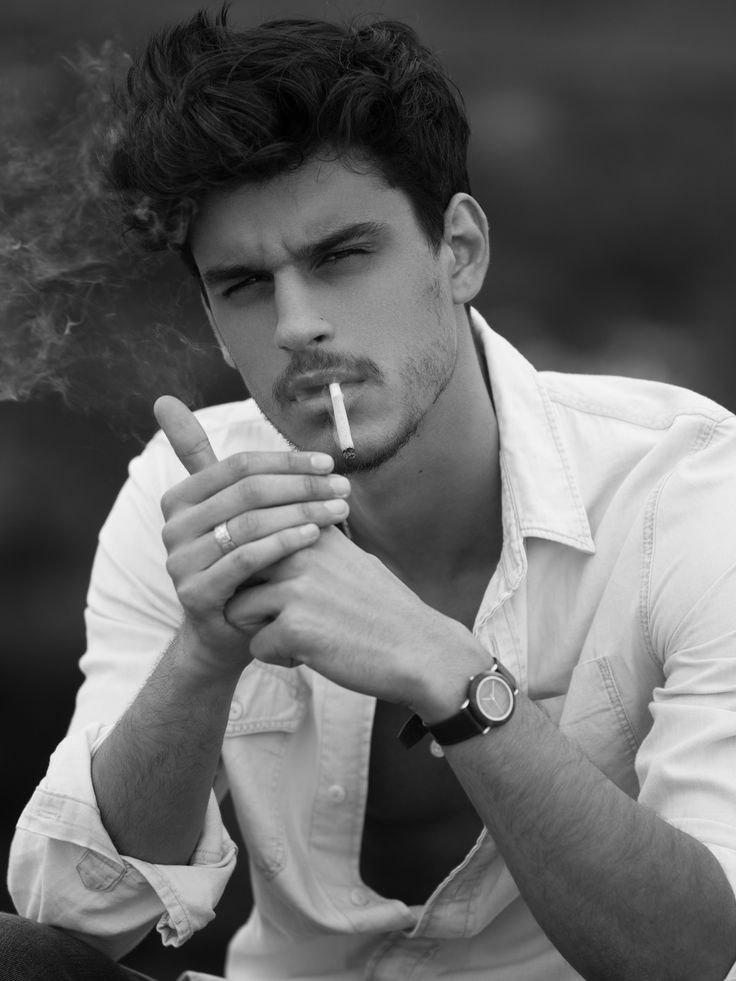cigarette: (325, 375, 354, 454)
